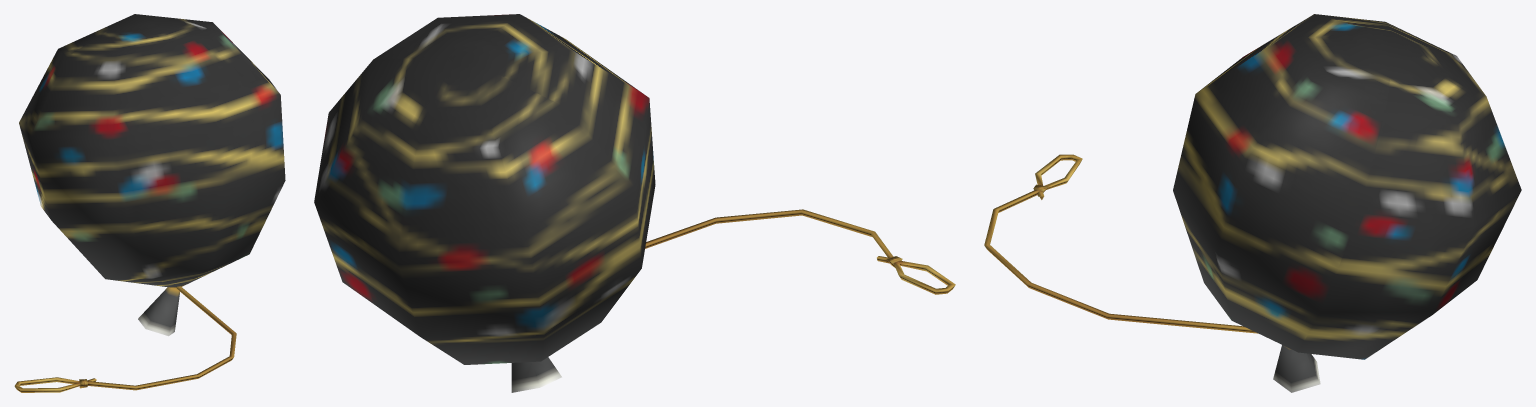
The model's file is jsf_WaterBalloon_03_c.fbx.
3 renders of one model, left to right at view 1: azimuth 30°, elevation 25°; view 2: azimuth 150°, elevation 25°; view 3: azimuth 270°, elevation 25°, orthographic. The views are drawn at different scales.
Parts seen in each view (by area): view 1: jsf_WaterBalloon_03_c; view 2: jsf_WaterBalloon_03_c; view 3: jsf_WaterBalloon_03_c.
Part boxes in pixels (x1=…): jsf_WaterBalloon_03_c: x1=14, y1=14, x2=285, y2=392; jsf_WaterBalloon_03_c: x1=314, y1=14, x2=955, y2=392; jsf_WaterBalloon_03_c: x1=984, y1=14, x2=1521, y2=392.
Size of the model in its own units: 16.89 by 12.55 by 17.11.
